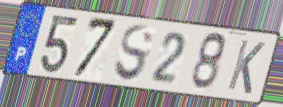2: (148, 31, 190, 87)
5: (39, 12, 81, 75)
7: (70, 15, 120, 80)
8: (189, 31, 228, 94)
K: (225, 37, 268, 97)
S: (112, 23, 156, 85)
